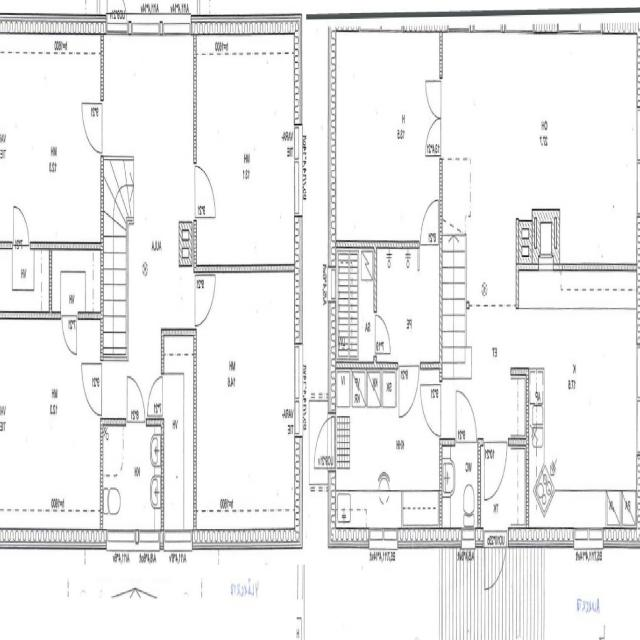door: (485, 528, 507, 604), (484, 438, 507, 503), (308, 416, 336, 469), (456, 385, 477, 445), (80, 364, 104, 416), (399, 362, 419, 420), (420, 384, 442, 436), (194, 166, 216, 216), (194, 276, 216, 326), (82, 104, 103, 152), (127, 374, 145, 425), (421, 196, 438, 249), (108, 0, 129, 34), (146, 377, 164, 416), (424, 81, 442, 119), (374, 315, 392, 353), (62, 313, 77, 358), (424, 119, 442, 156), (14, 204, 29, 248), (450, 0, 470, 32)
